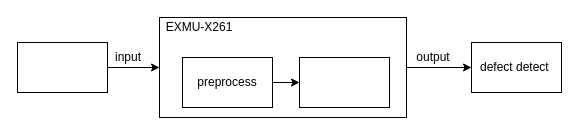
This 579x135 diagram has some shape labels left out. Each missing label, with the centre of its shape:
Camera: point 62,67
inference: point 344,82
